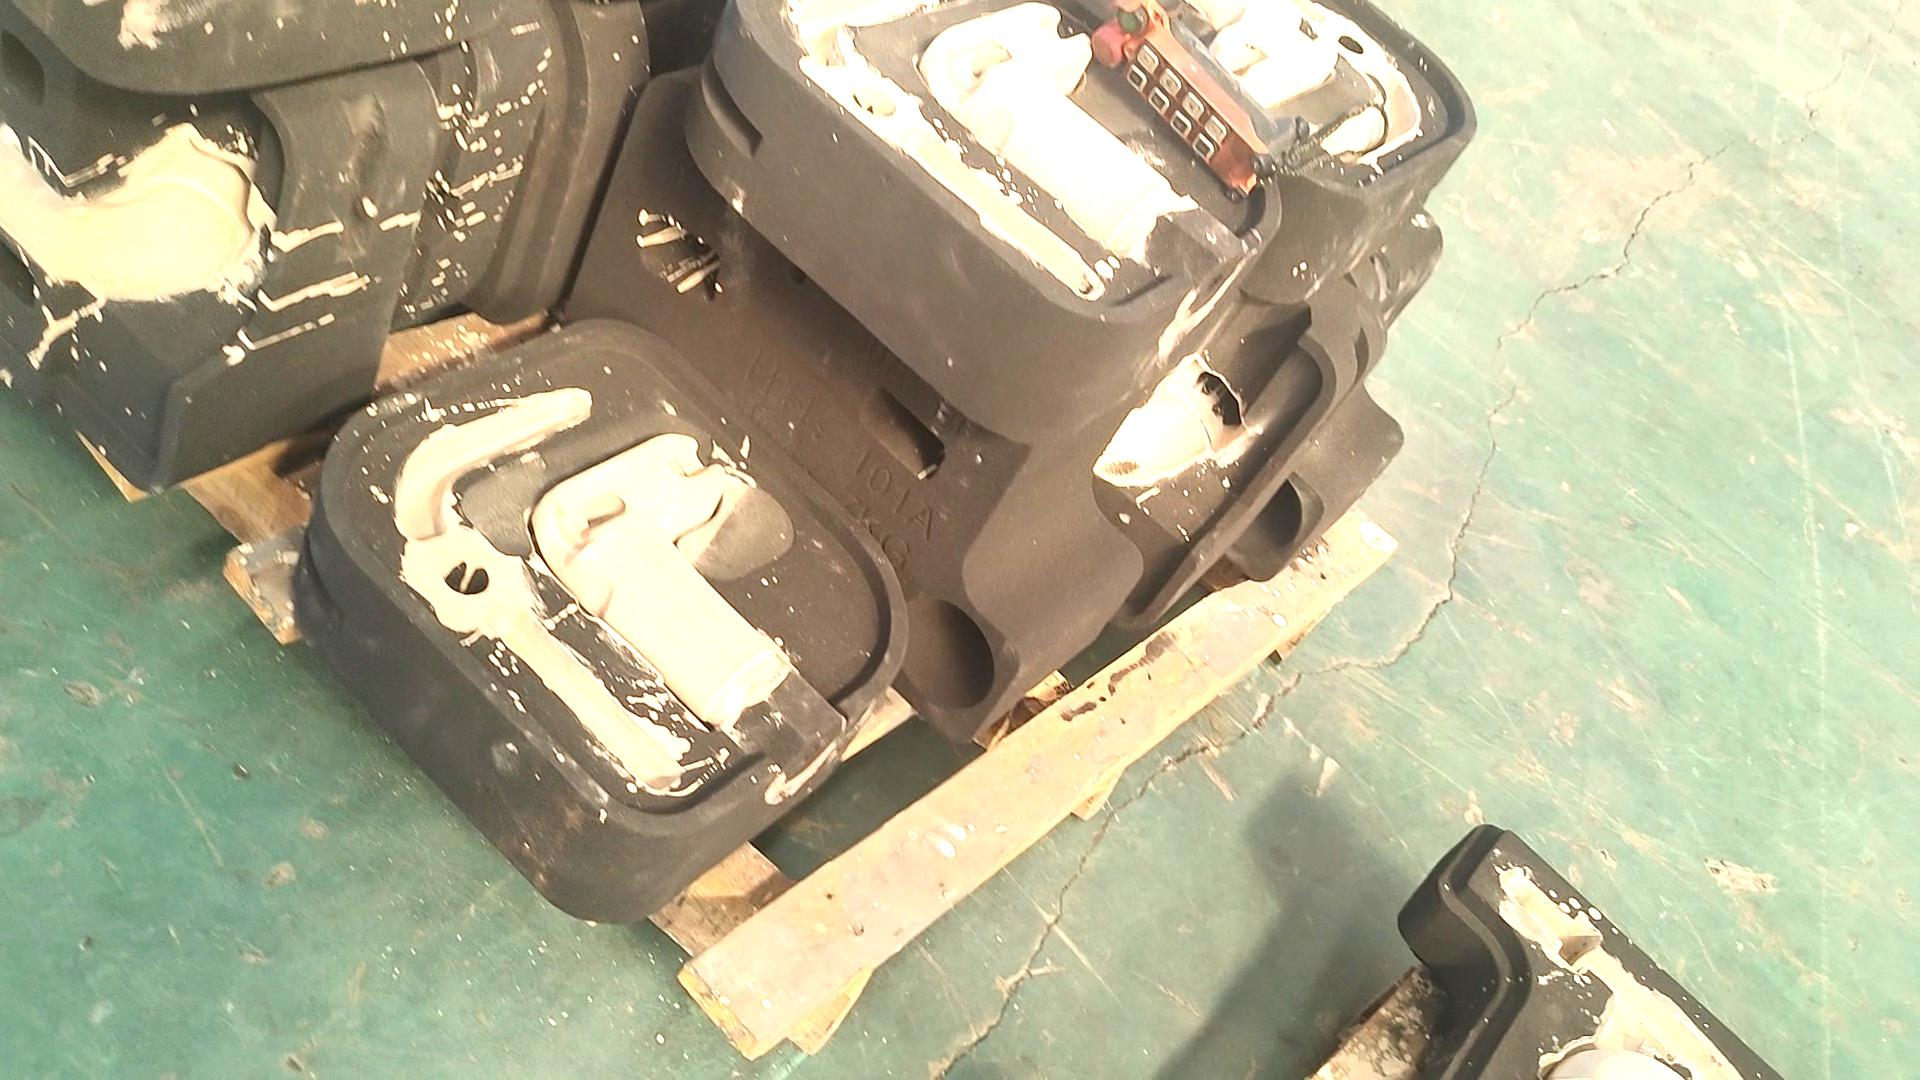pouring hole: (893, 595, 994, 711), (1208, 464, 1302, 553)
